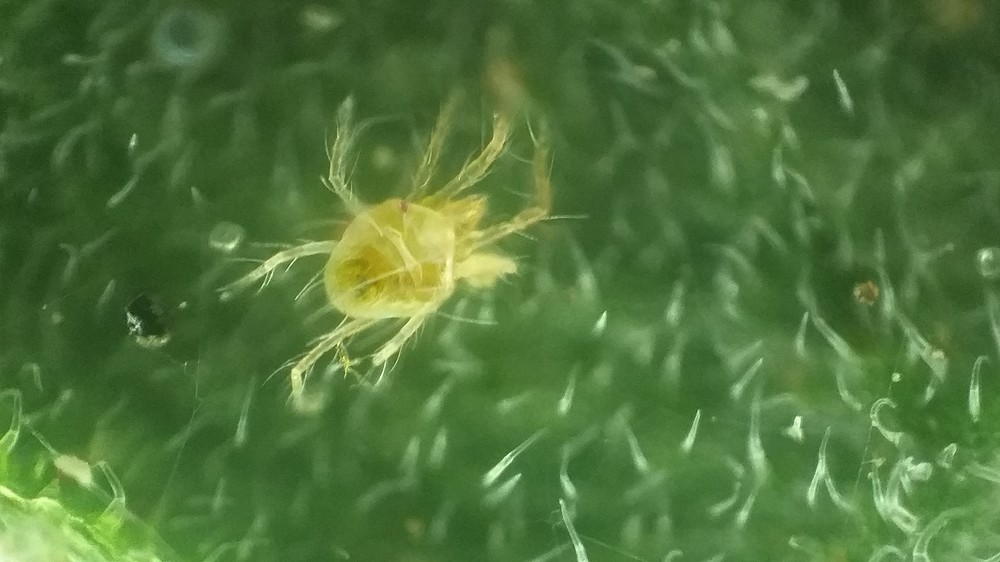Aracnido Rojo: (204, 86, 613, 403)
